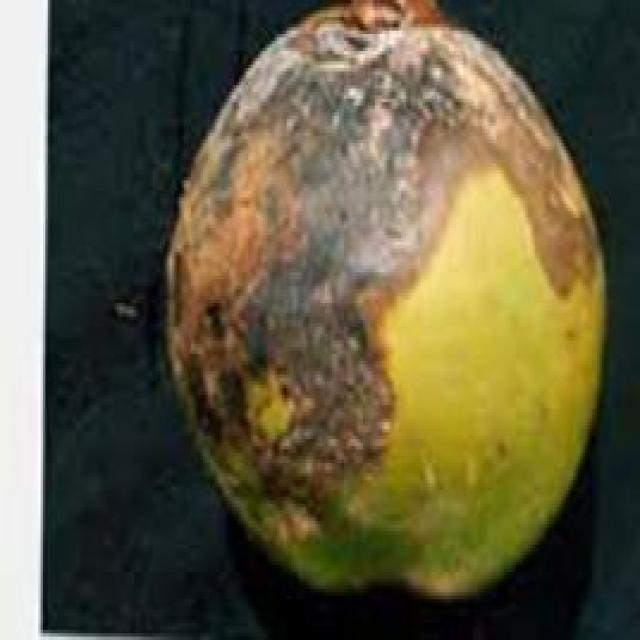damaged: (160, 0, 607, 630)
